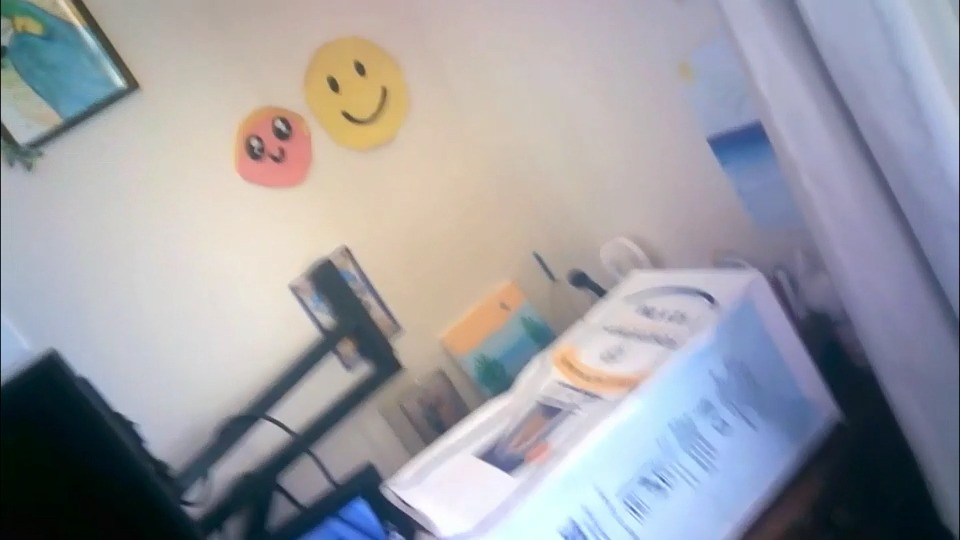wheat_flour_blue_label: (382, 263, 839, 539)
